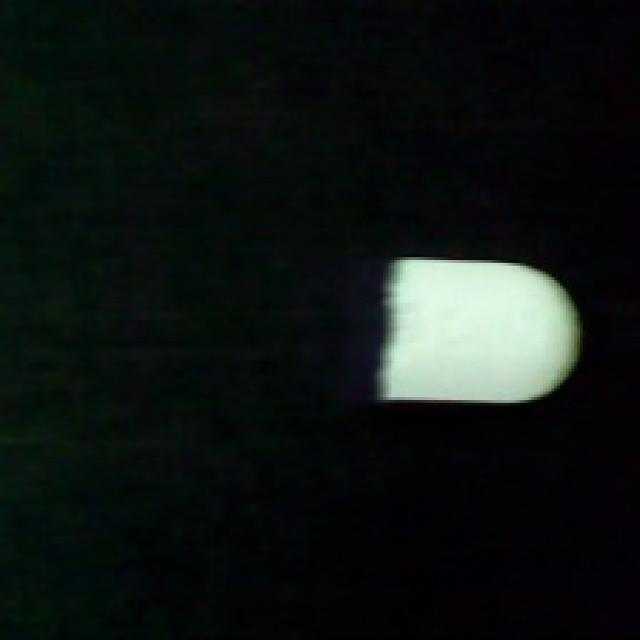defected: (374, 251, 586, 406)
